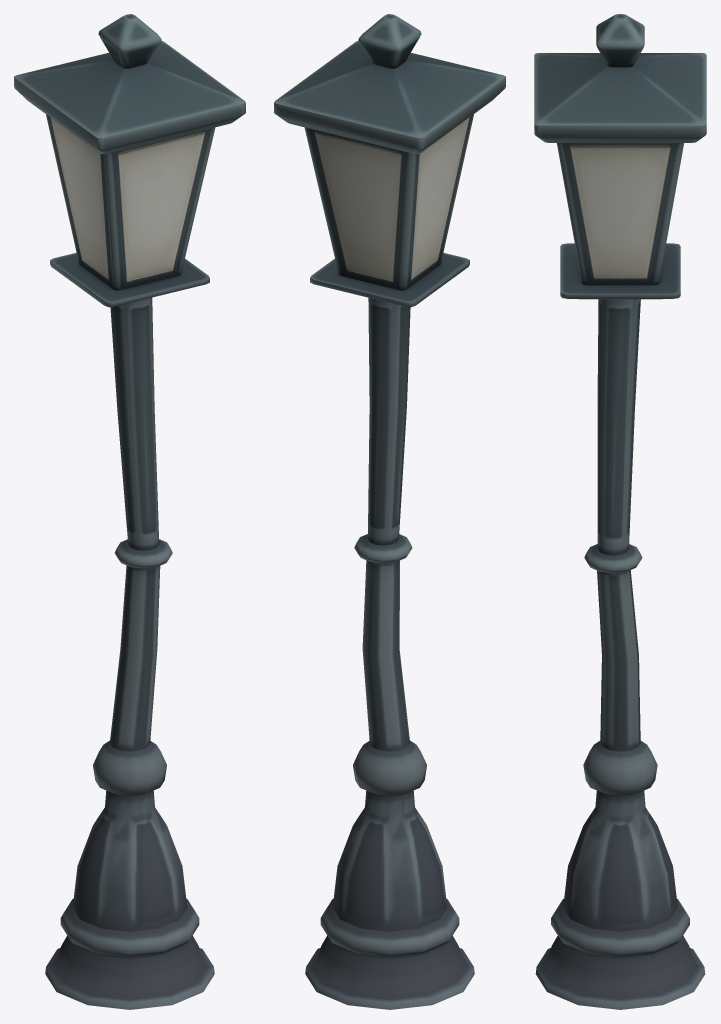
File: StreetLamp01_1.FBX
3 views of the same model, side by side, from view 1: azimuth 30°, elevation 25°; view 2: azimuth 150°, elevation 25°; view 3: azimuth 270°, elevation 25° (orthographic).
Visible parts, largest first — view 1: StreetLamp01_1; view 2: StreetLamp01_1; view 3: StreetLamp01_1.
Boxes of the visible parts, x1=… form: StreetLamp01_1: x1=14, y1=14, x2=245, y2=1009; StreetLamp01_1: x1=274, y1=14, x2=505, y2=1009; StreetLamp01_1: x1=534, y1=14, x2=706, y2=1009.
Size of what is drawn, in the model's own units: 0.4997 by 3.07 by 0.4997.
